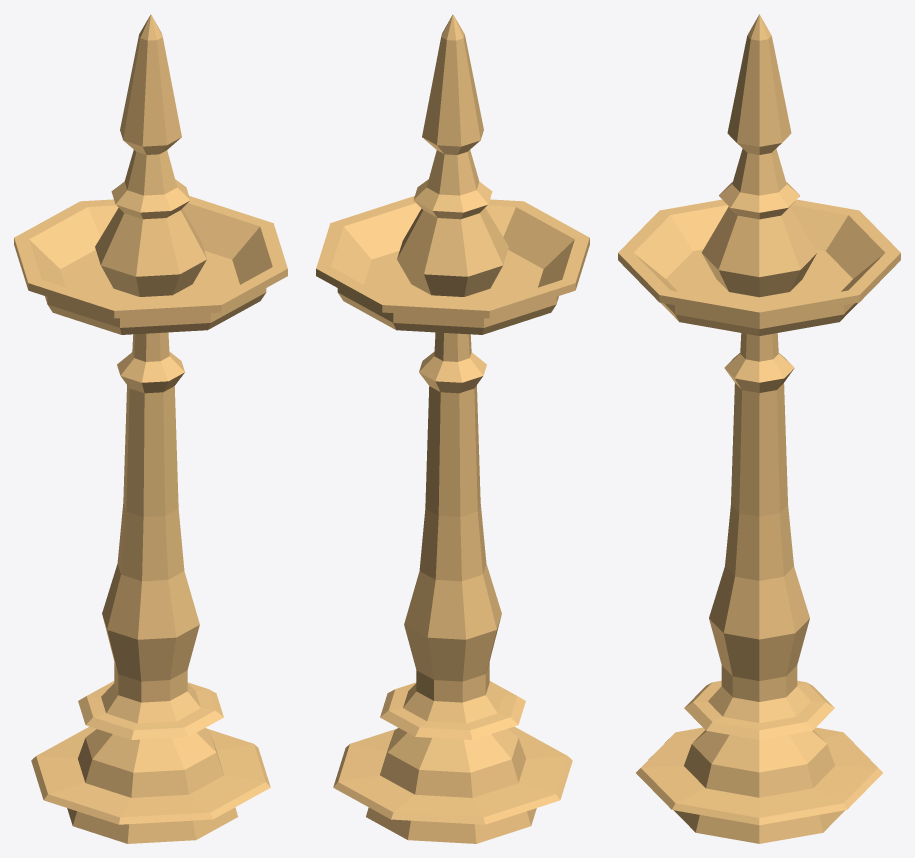
Rendered from Samaii.fbx.
The picture shows the model from 3 angles, left to right: view 1: azimuth 30°, elevation 25°; view 2: azimuth 150°, elevation 25°; view 3: azimuth 270°, elevation 25°; orthographic projection.
Visible parts, largest first — view 1: Samaii; view 2: Samaii; view 3: Samaii.
Part boxes in pixels (x1,y1,x2,y2): Samaii: (14,14,287,843); Samaii: (316,14,589,843); Samaii: (618,14,900,843).
Size of the model in its own units: 265 by 818 by 265.
